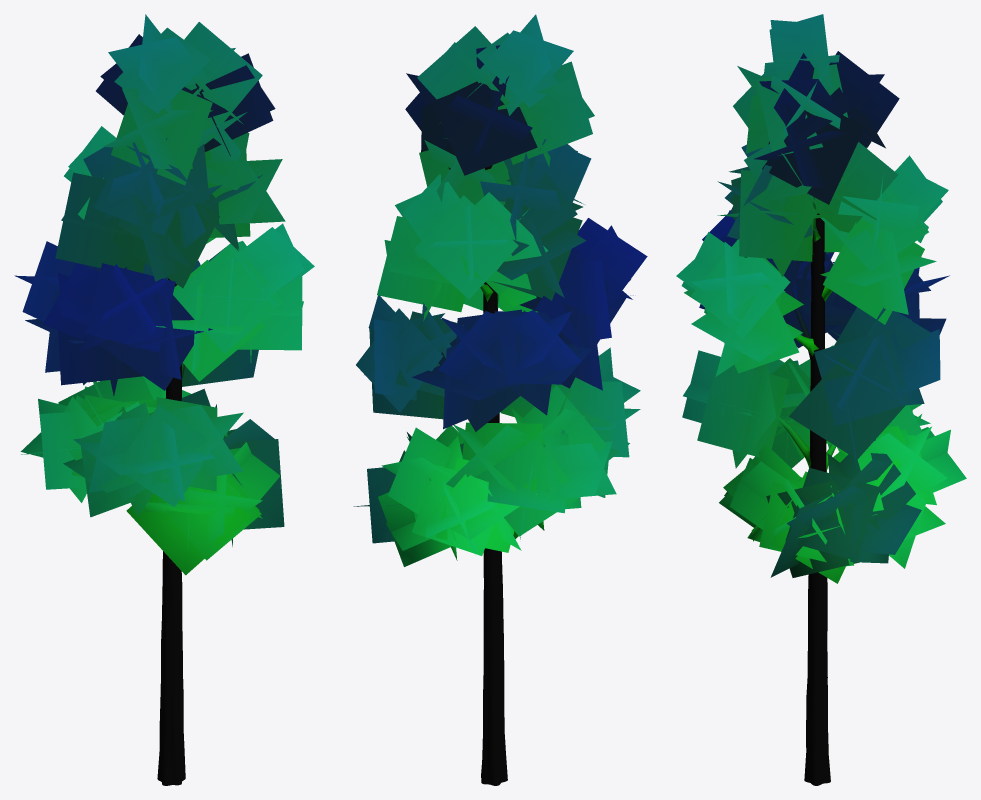
File: Tree_Pine3.fbx
The picture shows the model from 3 angles, left to right: view 1: azimuth 30°, elevation 25°; view 2: azimuth 150°, elevation 25°; view 3: azimuth 270°, elevation 25°; orthographic projection. The views are drawn at different scales.
Parts seen in each view (by area): view 1: Tree_1, Tree_0; view 2: Tree_1, Tree_0; view 3: Tree_1, Tree_0.
Part boxes in pixels (x1,y1,x2,y2): Tree_1: (14,14,314,575); Tree_0: (157,277,185,785); Tree_1: (353,14,647,566); Tree_0: (480,165,507,785); Tree_1: (676,14,966,583); Tree_0: (778,197,836,785).
Bounding box in the file's own units: 501 × 1501 × 524.
